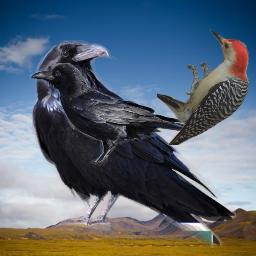Crow: (32, 40, 236, 248), (30, 63, 197, 166)
Woodpecker: (157, 29, 253, 145)
